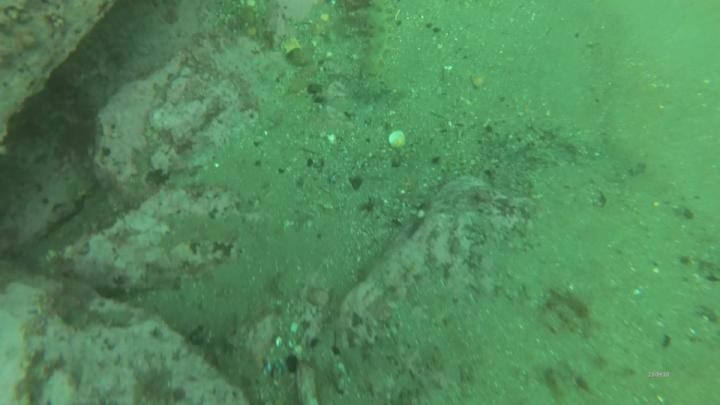holothurian: (361, 9, 400, 82)
